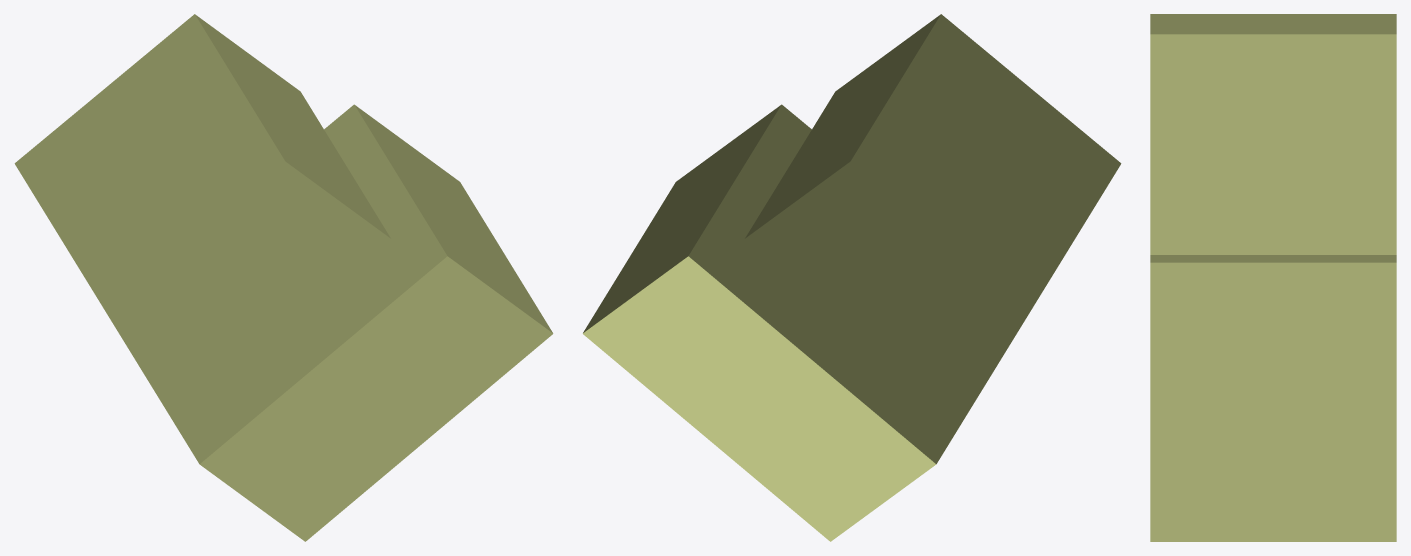
The picture shows the model from 3 angles, left to right: view 1: azimuth 30°, elevation 25°; view 2: azimuth 150°, elevation 25°; view 3: azimuth 270°, elevation 25°; orthographic projection. The views are drawn at different scales.
Visible parts, largest first — view 1: 0_1_2_0_0_1_3_2_1_0; view 2: 0_1_2_0_0_1_3_2_1_0; view 3: 0_1_2_0_0_1_3_2_1_0.
Boxes of the visible parts, box(x1,y1,x2,y2) form: 0_1_2_0_0_1_3_2_1_0: box(14, 14, 553, 541); 0_1_2_0_0_1_3_2_1_0: box(582, 14, 1121, 541); 0_1_2_0_0_1_3_2_1_0: box(1150, 14, 1396, 541).
Size of the model in its own units: 14.16 by 14.11 by 6.
